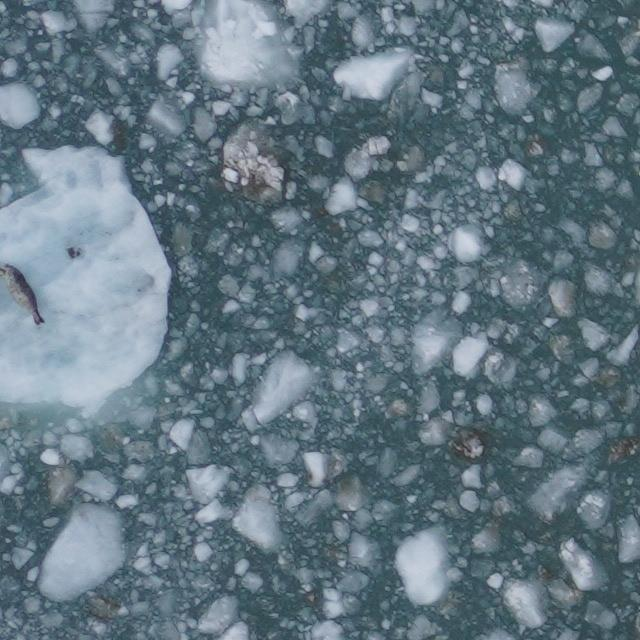seal: (0, 260, 50, 331)
